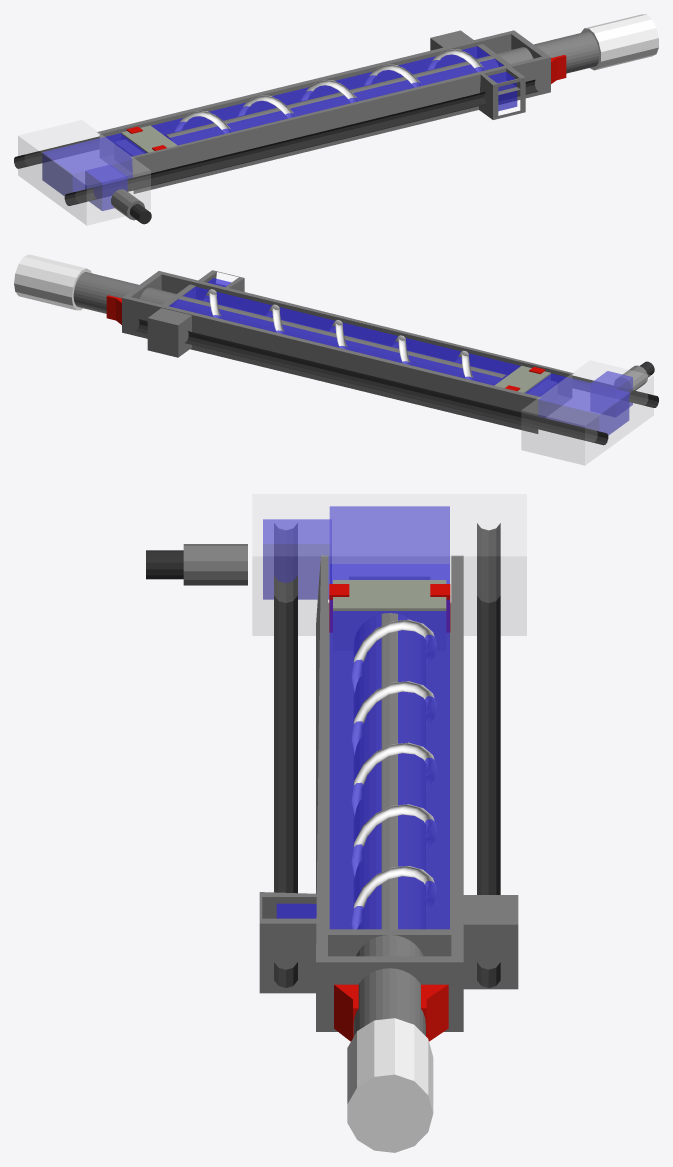
The model's file is modelo.glb.
The picture shows the model from 3 angles, top to bottom: view 1: azimuth 30°, elevation 25°; view 2: azimuth 150°, elevation 25°; view 3: azimuth 270°, elevation 25°; orthographic projection. The views are drawn at different scales.
Parts seen in each view (by area): view 1: Cube.001, W, Cube.002, Cube, Circle.001, Circle, Cube.005, W.001, W.002, Cylinder.002, Cube.007, Cube.006; view 2: Cube.001, W, Cube.002, Cube, Circle.001, Cube.007, Circle, W.001, Cylinder.002, Cube.005, Cube.006; view 3: W, Cube.002, Cube.001, Cube, Circle.001, Circle, Cube.005, Cube.007, W.001, Cylinder.002, Cube.006, Cylinder.003.
Boxes of the visible parts, box(x1,y1,x2,y2) form: Cube.001: box(97, 30, 550, 193); W: box(42, 46, 503, 195); Cube.002: box(114, 14, 658, 171); Cube: box(18, 120, 150, 225); Circle.001: box(14, 79, 538, 205); Circle: box(174, 49, 484, 133); Cube.005: box(479, 65, 525, 119); W.001: box(85, 164, 127, 210); W.002: box(488, 72, 517, 111); Cylinder.002: box(111, 189, 144, 220); Cube.007: box(430, 30, 473, 50); Cube.006: box(551, 55, 566, 83); Cube.001: box(122, 271, 573, 433); W: box(169, 286, 629, 435); Cube.002: box(14, 254, 557, 412); Cube: box(521, 360, 653, 465); Circle.001: box(135, 319, 658, 445); Cube.007: box(147, 308, 191, 357); Circle: box(203, 289, 473, 380); W.001: box(591, 371, 632, 407); Cylinder.002: box(614, 365, 647, 390); Cube.005: box(196, 270, 244, 291); Cube.006: box(106, 295, 121, 324); W: box(329, 506, 449, 929); Cube.002: box(333, 577, 446, 1152); Cube.001: box(316, 555, 463, 1031); Cube: box(252, 494, 526, 635); Circle.001: box(274, 523, 500, 987); Circle: box(352, 619, 436, 928); Cube.005: box(259, 892, 325, 993); Cube.007: box(463, 895, 518, 989); W.001: box(263, 519, 331, 599); Cylinder.002: box(183, 544, 247, 585); Cube.006: box(334, 984, 448, 1041); Cylinder.003: box(146, 550, 183, 579).
Bounding box in the file's own units: 18.94 × 1.51 × 5.17.
